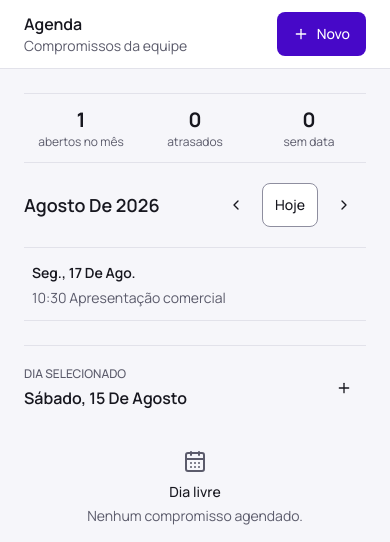
Test: Agenda › permite localizar um compromisso pelo mês e abrir o detalhe do dia
This screenshot has width=390, height=542.
Click the button "seg., 17 de ago. 10:30 Apresentação comercial" at coordinates (84, 272), box top-left (24, 248), bottom-right (366, 320)
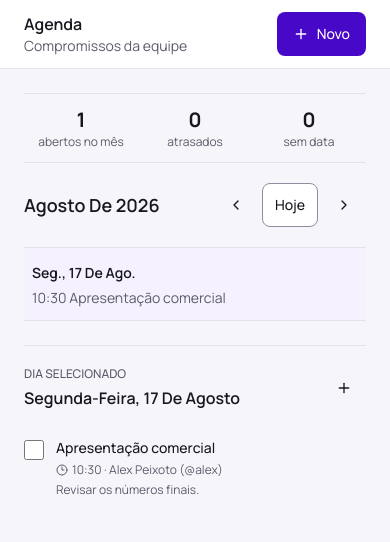
Expected: the checkbox named "Concluir Apresentação comercial" is shown, top-left (24, 440), bottom-right (44, 460)
Expected: the text "10:30 · Alex Peixoto (@alex)" is shown, top-left (56, 462), bottom-right (223, 478)
